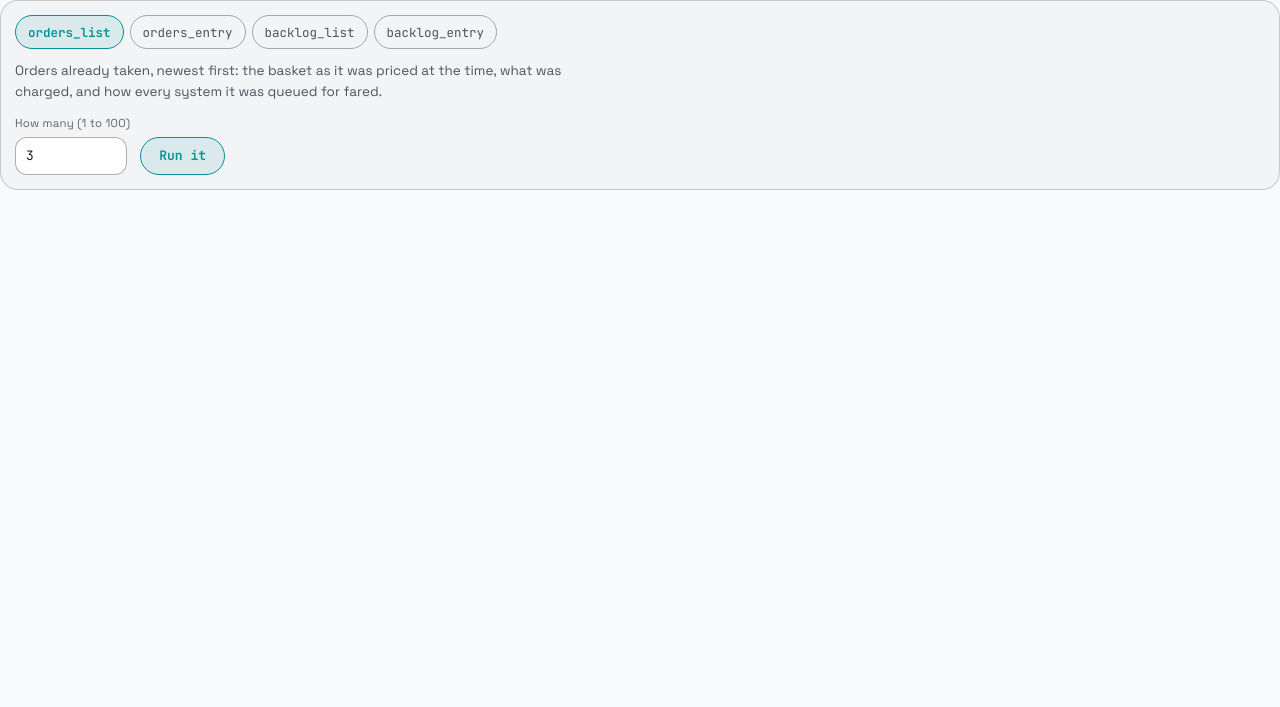
McpConsole › carries the newest order number from the list into orders_entry
Step 1. Click the button with test id "mcp-run" → (183, 156), box [140, 137, 225, 175]
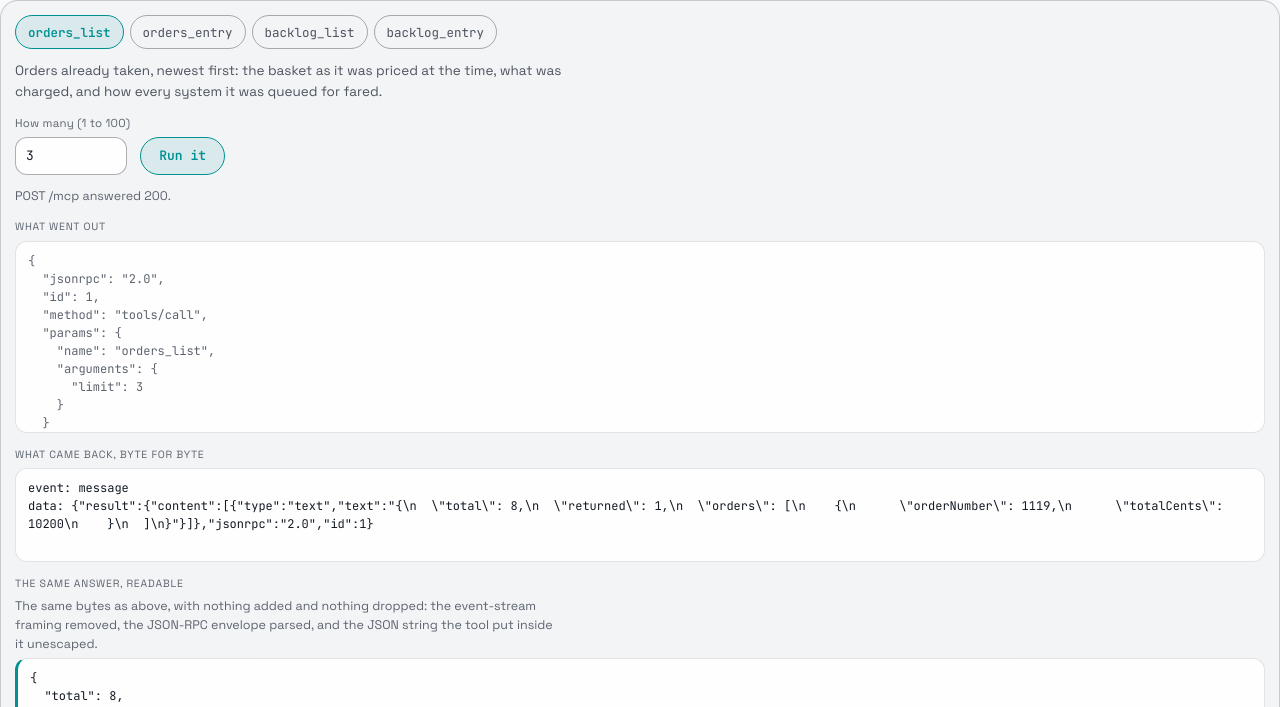
Expected: the text with test id "mcp-response" is shown, [15, 468, 1265, 562]
Step 2. Click the button "orders_entry" → (188, 32), box [130, 15, 246, 49]
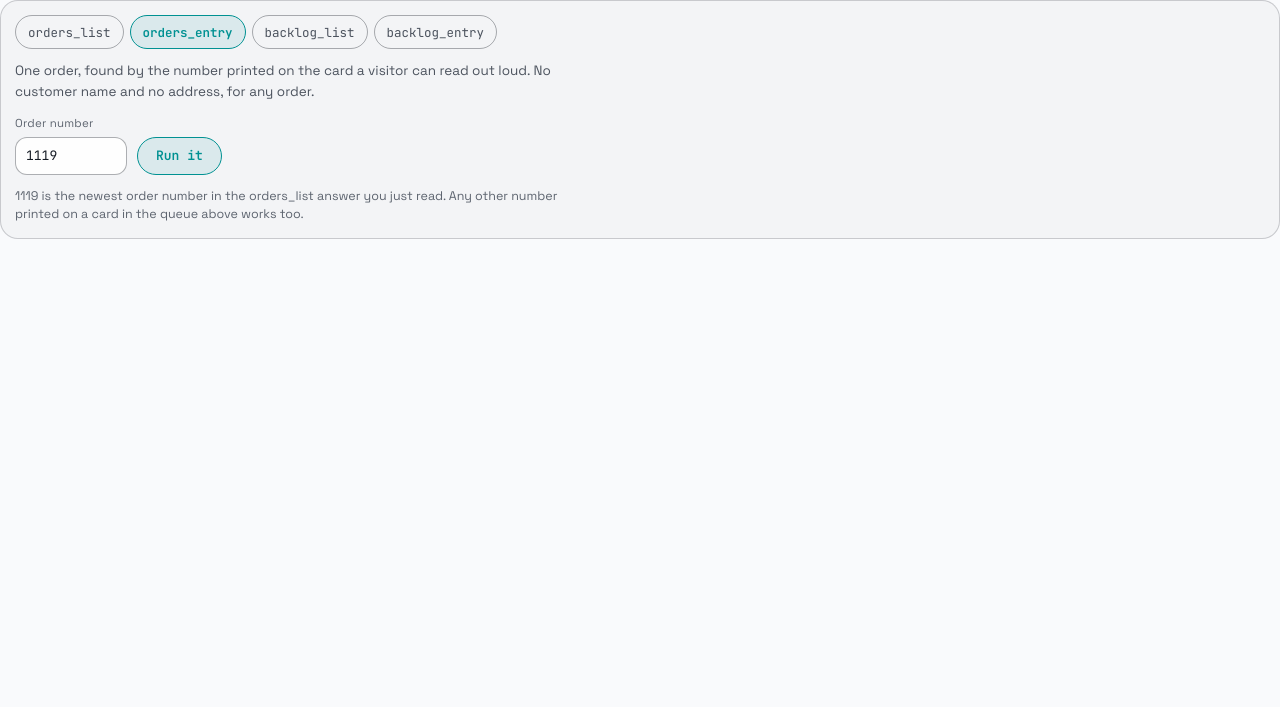
Expected: the number field with test id "mcp-field-orderNumber" holds "1119", [15, 137, 127, 175]
Expected: the text with test id "mcp-provenance" shows "1119", [15, 188, 557, 222]
Expected: the text with test id "mcp-provenance" shows "orders_list", [15, 188, 557, 222]
